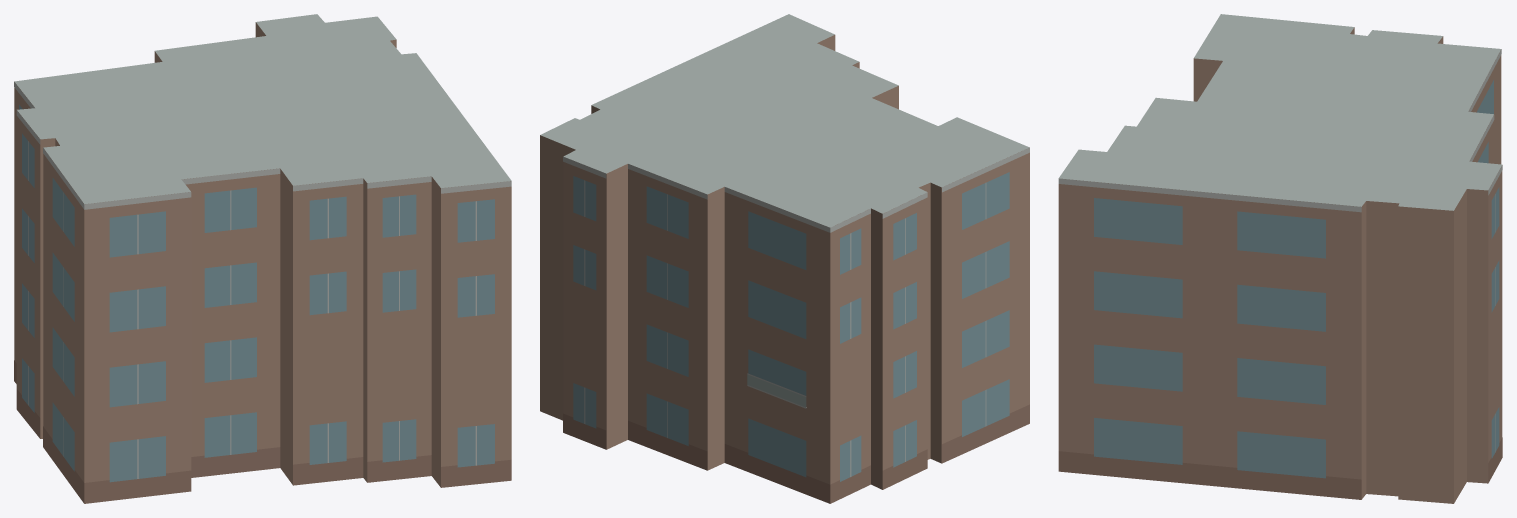
Rendered from survey-upis-32866902.glb.
3 views of the same model, side by side, from view 1: azimuth 30°, elevation 25°; view 2: azimuth 150°, elevation 25°; view 3: azimuth 270°, elevation 25° (orthographic). The views are drawn at different scales.
Visible parts, largest first — view 1: survey-upis-32866902.tmp; view 2: survey-upis-32866902.tmp; view 3: survey-upis-32866902.tmp.
Part boxes in pixels (x1,y1,x2,y2): survey-upis-32866902.tmp: (14, 14, 511, 503); survey-upis-32866902.tmp: (540, 14, 1029, 503); survey-upis-32866902.tmp: (1058, 14, 1502, 503).
Bounding box in the file's own units: 18.8 × 13.05 × 17.92.
